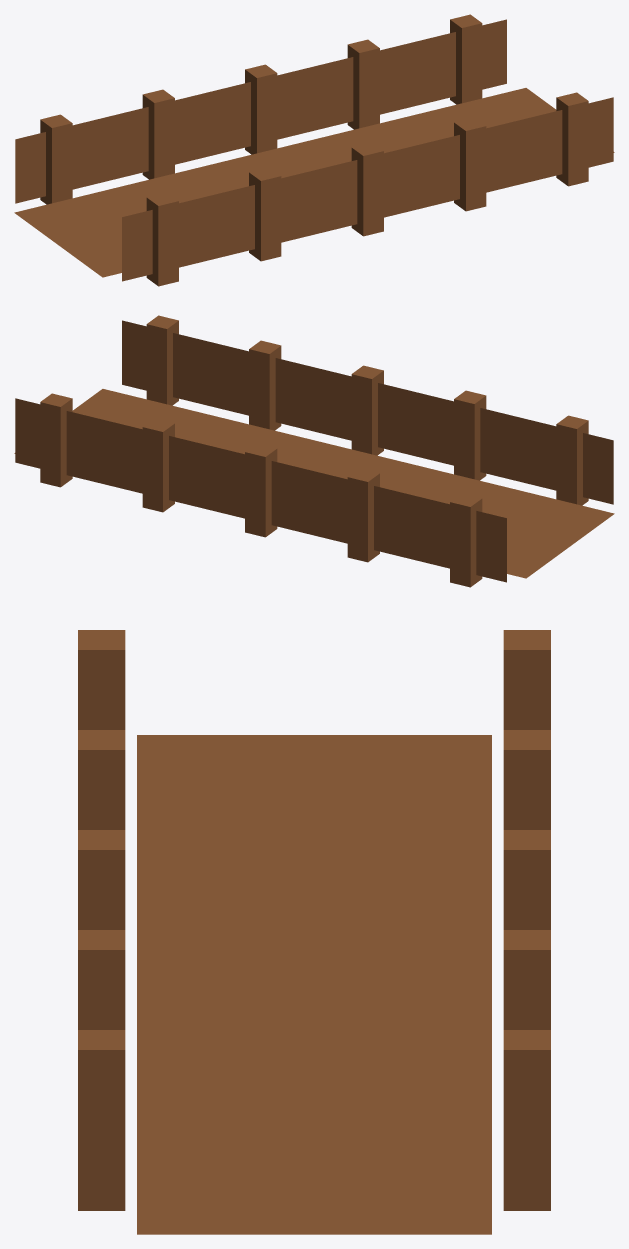
The model's file is bridge.obj.
3 views of the same model, one above another, from view 1: azimuth 30°, elevation 25°; view 2: azimuth 150°, elevation 25°; view 3: azimuth 270°, elevation 25° (orthographic). The views are drawn at different scales.
Size of the model in its own units: 1 by 0.15 by 0.4.
